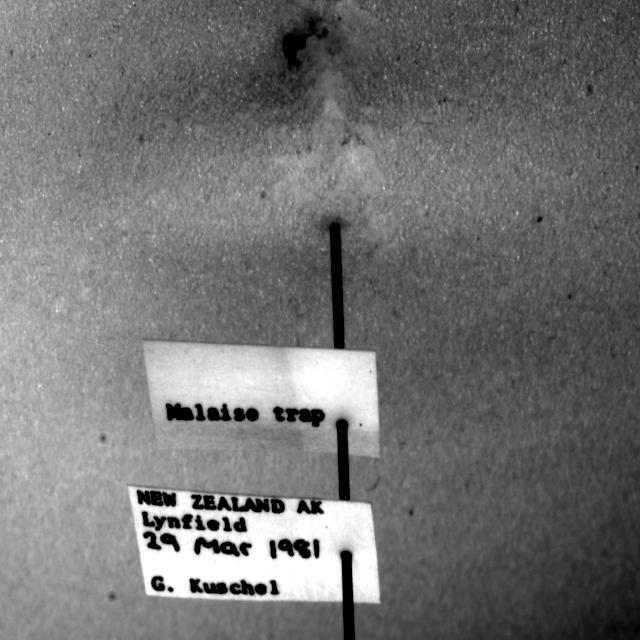mixed_label: (129, 486, 380, 604)
typed_label: (144, 339, 380, 458)
